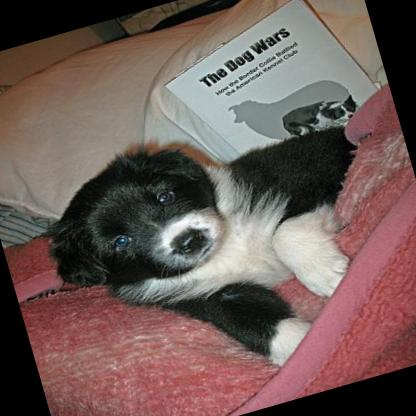Border_collie: (26, 83, 412, 416)
